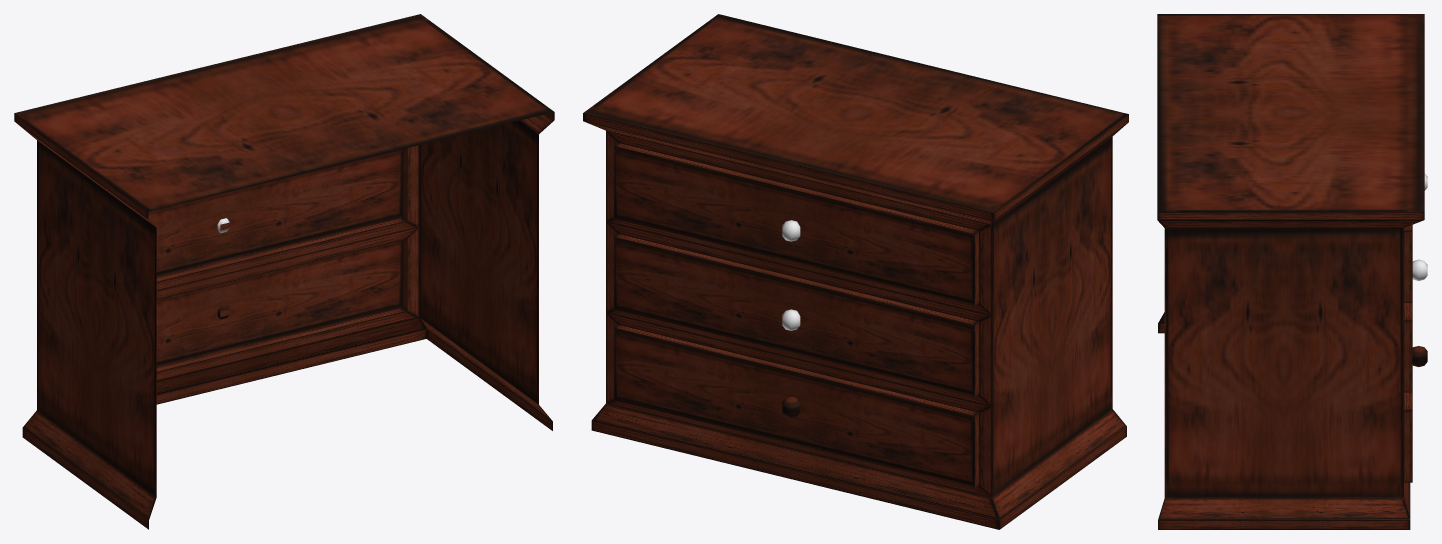
Rendered from table1.fbx.
3 views of the same model, side by side, from view 1: azimuth 30°, elevation 25°; view 2: azimuth 150°, elevation 25°; view 3: azimuth 270°, elevation 25° (orthographic).
Parts seen in each view (by area): view 1: Cube; view 2: Cube; view 3: Cube.
Part boxes in pixels (<box>): Cube: <box>14,14,554,529</box>; Cube: <box>583,14,1128,529</box>; Cube: <box>1157,14,1424,529</box>.
Size of the model in its own units: 258 by 194 by 149.
